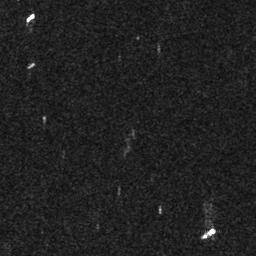ship: (201, 227, 217, 240), (26, 13, 35, 22)
